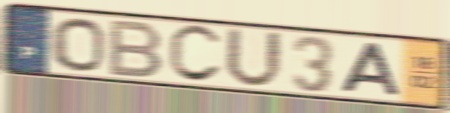3: (291, 32, 336, 95)
A: (338, 40, 403, 99)
B: (106, 18, 167, 80)
C: (166, 23, 225, 85)
O: (49, 16, 107, 74)
U: (223, 25, 286, 91)
